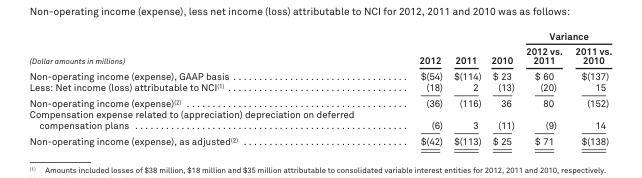table: (28, 29, 611, 146)
table column: (28, 29, 386, 146), (386, 29, 447, 146), (519, 29, 568, 146), (568, 29, 611, 146), (447, 29, 485, 146), (485, 29, 519, 146)
table column header: (28, 29, 611, 68)
table row: (28, 42, 611, 68), (28, 108, 611, 132), (28, 94, 611, 108), (28, 132, 611, 146), (28, 29, 611, 42), (28, 68, 611, 81), (28, 81, 611, 94)
table spanning cell: (28, 29, 386, 68), (386, 29, 447, 68), (447, 29, 485, 68), (485, 29, 519, 68), (519, 29, 611, 42)
